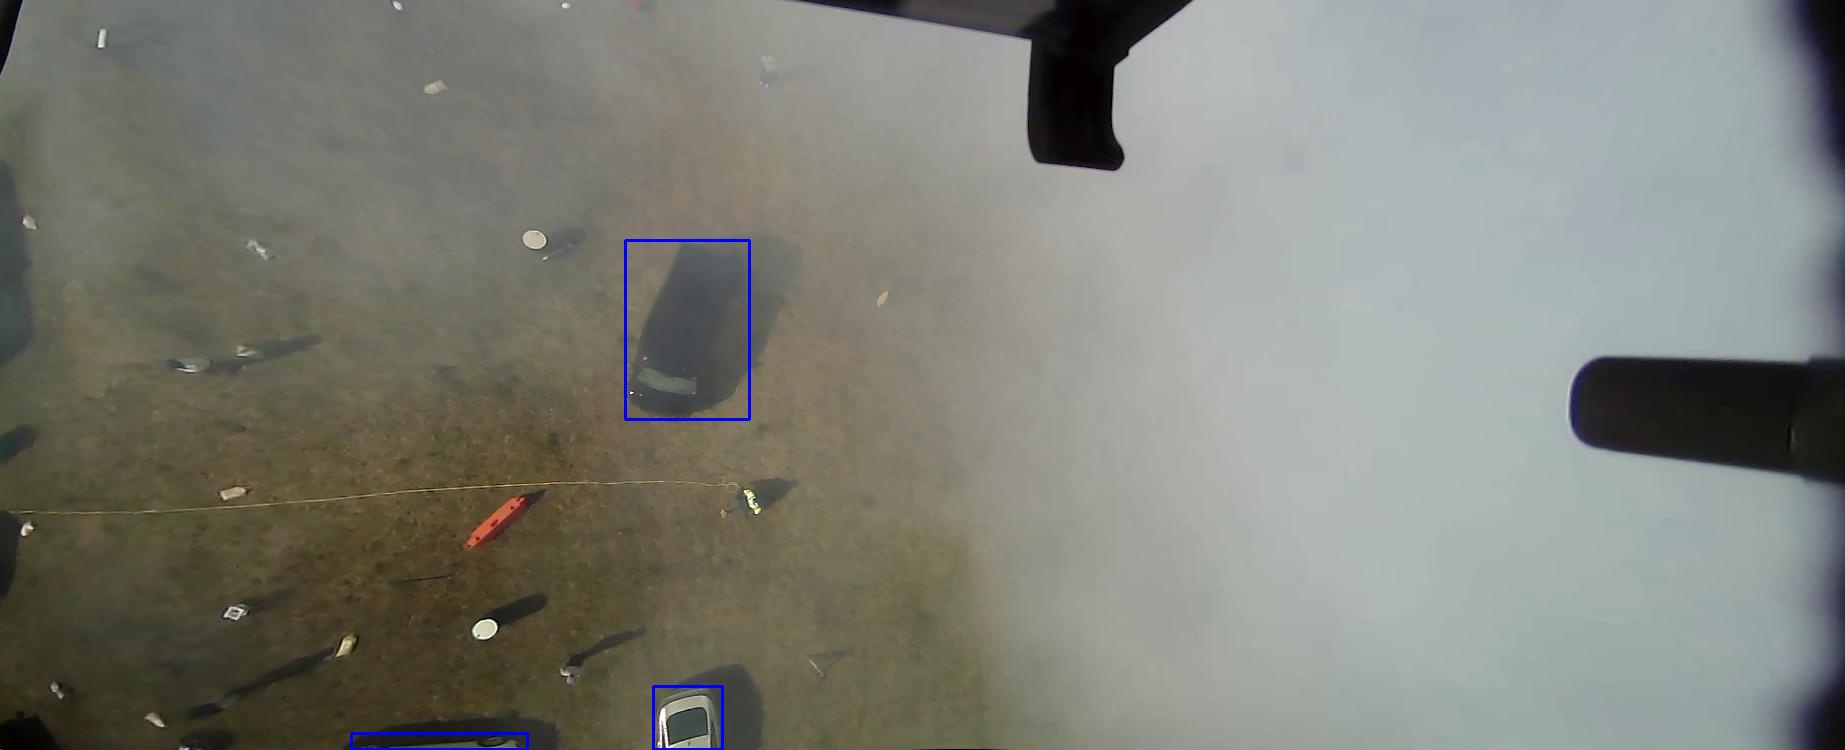vehicle: (240, 625, 419, 749), (686, 653, 750, 722), (733, 351, 750, 527)
